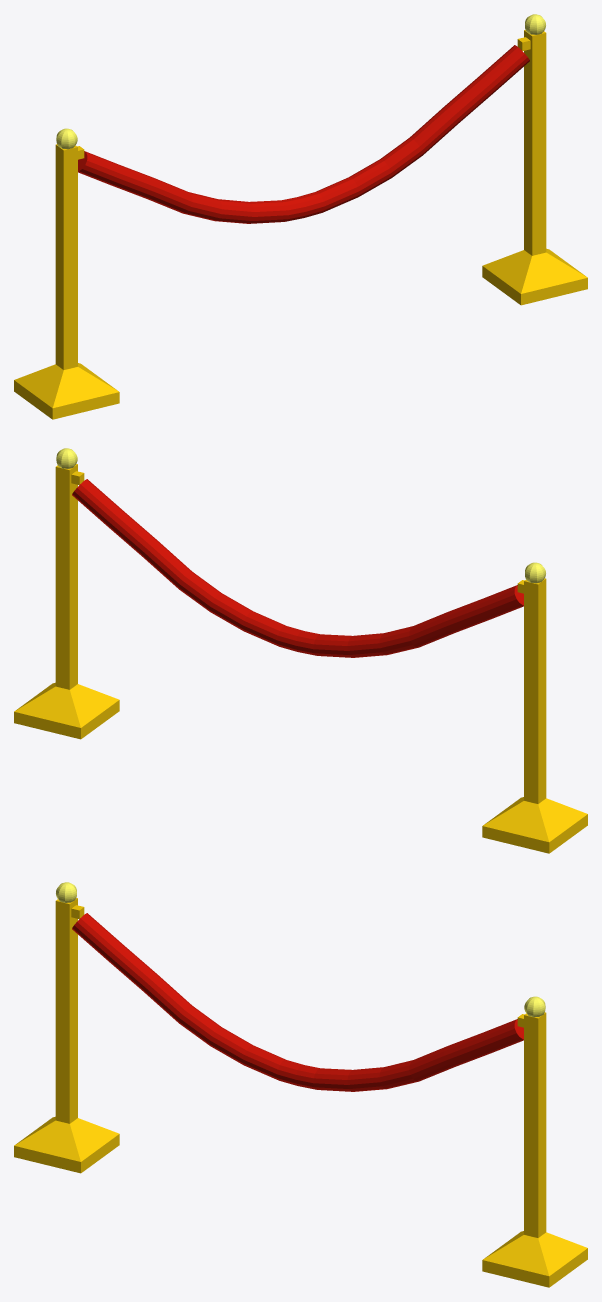
Rendered from CordonMuseo.fbx.
3 renders of one model, top to bottom at view 1: azimuth 30°, elevation 25°; view 2: azimuth 150°, elevation 25°; view 3: azimuth 330°, elevation 25°, orthographic.
Visible parts, largest first — view 1: Cube; view 2: Cube; view 3: Cube.
Boxes of the visible parts, x1,y1,x2,y2 form: Cube: (14, 14, 587, 419); Cube: (14, 448, 587, 853); Cube: (14, 882, 587, 1287).
Size of the model in its own units: 1598 by 765 by 200.
Materials: 1 (1 with a texture image).
